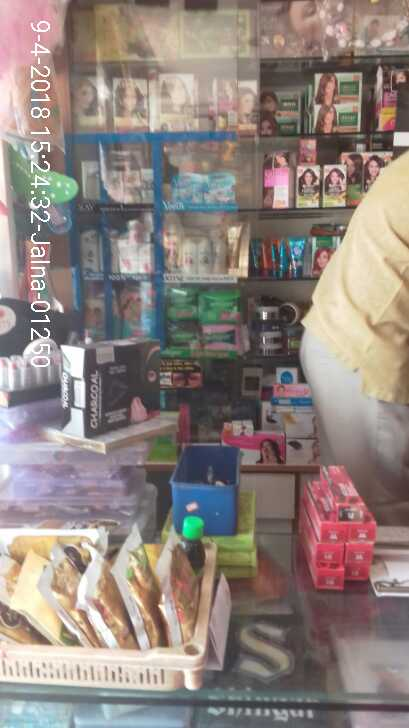venus: (206, 172, 237, 205), (172, 175, 206, 205)
